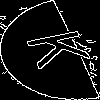K: (24, 25, 100, 70)
